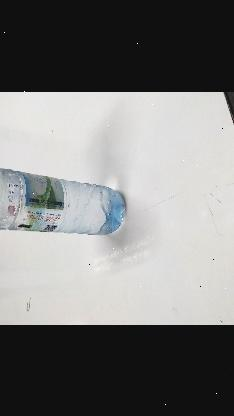Plastic Bottle: (0, 167, 128, 235)
